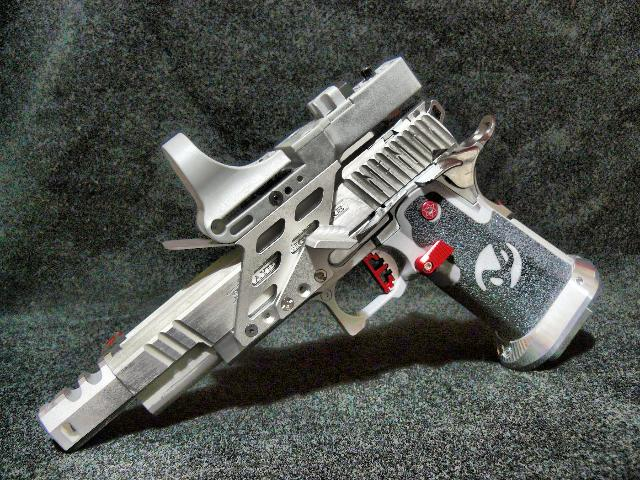pistol: (36, 55, 600, 457)
